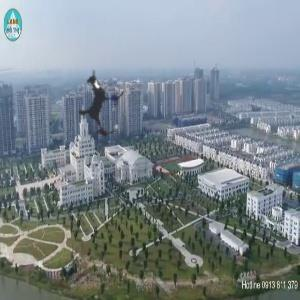drone: (49, 50, 159, 160)
